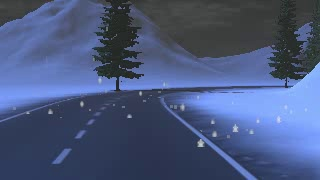Lane: (0, 86, 283, 179)
